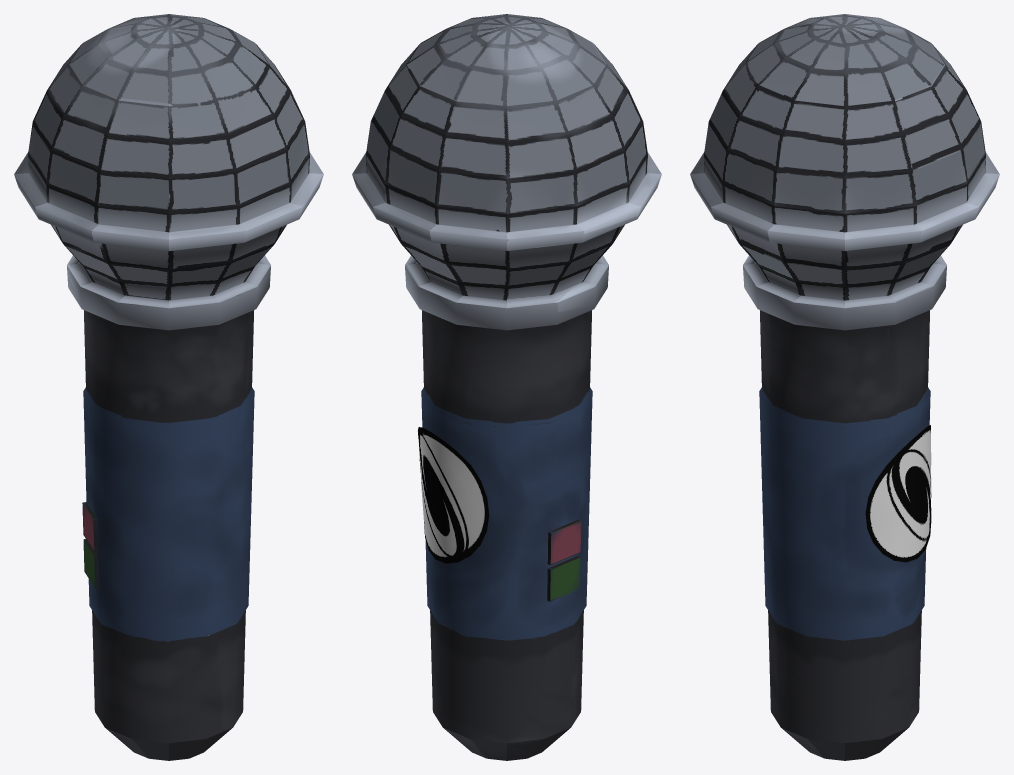
The model's file is microphone.gltf.
3 views of the same model, side by side, from view 1: azimuth 30°, elevation 25°; view 2: azimuth 150°, elevation 25°; view 3: azimuth 270°, elevation 25° (orthographic).
Visible parts, largest first — view 1: pSphere1; view 2: pSphere1, pDisc1; view 3: pSphere1, pDisc1.
Boxes of the visible parts, x1,y1,x2,y2 form: pSphere1: (14,14,323,760); pSphere1: (352,14,661,760); pDisc1: (418,427,489,563); pSphere1: (690,14,999,760); pDisc1: (865,425,931,562).
Size of the model in its own units: 3.08 by 7.93 by 3.08.
2 materials, 2 textured.
